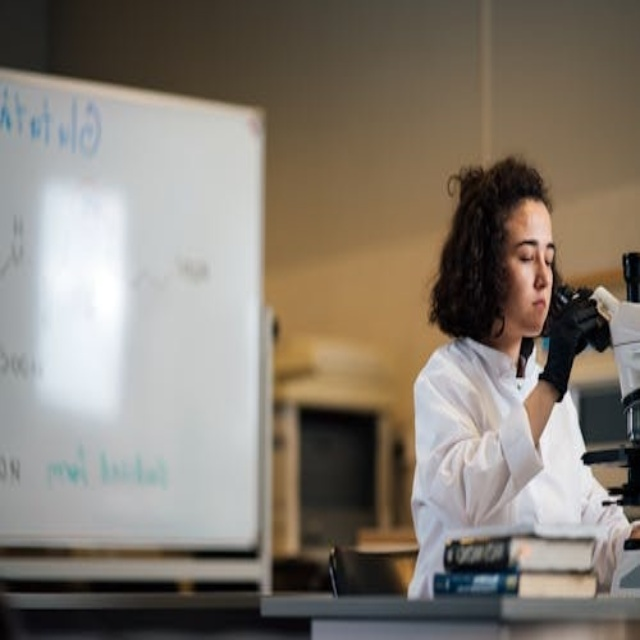Guantes: (538, 287, 609, 401)
Sin_gafas: (507, 228, 561, 274)
Sin_mascara: (522, 289, 547, 335)
